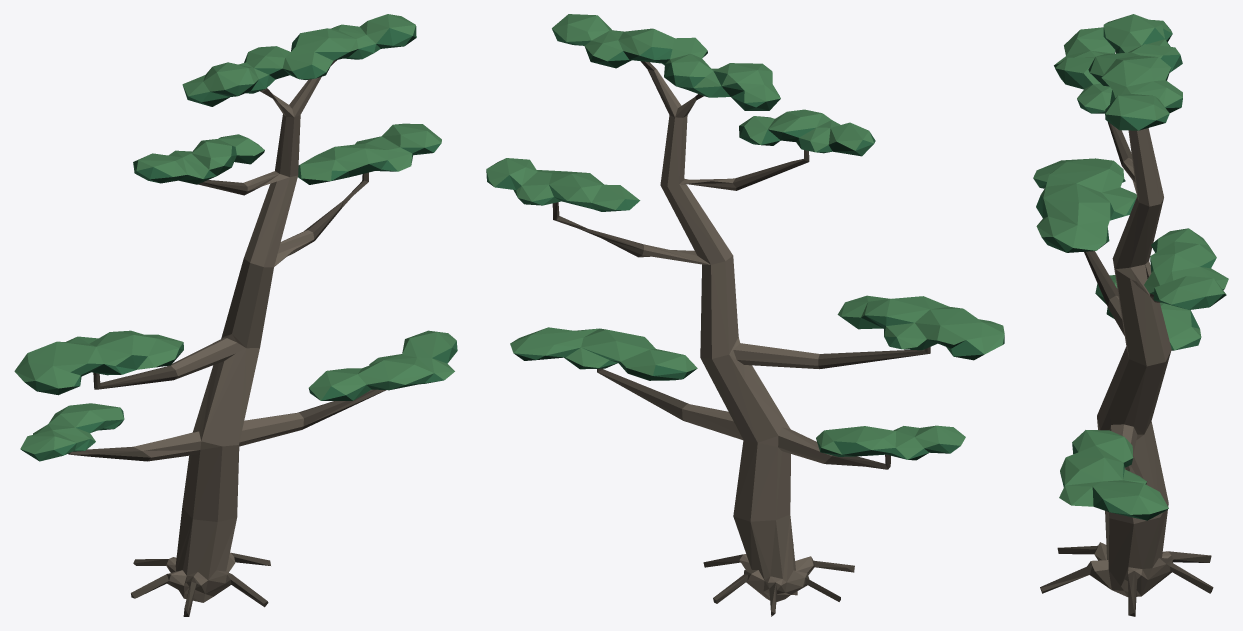
Rendered from ancient-pine-1238-lod2.glb.
3 views of the same model, side by side, from view 1: azimuth 30°, elevation 25°; view 2: azimuth 150°, elevation 25°; view 3: azimuth 270°, elevation 25° (orthographic). The views are drawn at different scales.
Parts seen in each view (by area): view 1: n8.006, n12.006, n11.006, n9.006, n10.006; view 2: n12.006, n8.006, n9.006, n11.006, n10.006; view 3: n12.006, n8.006, n11.006, n9.006, n10.006.
Part boxes in pixels (bbox=[...]): n8.006: bbox=[133, 76, 321, 602]; n12.006: bbox=[14, 14, 456, 454]; n11.006: bbox=[25, 26, 457, 461]; n9.006: bbox=[68, 60, 386, 616]; n10.006: bbox=[21, 36, 439, 460]; n12.006: bbox=[486, 14, 1004, 459]; n8.006: bbox=[639, 69, 832, 601]; n9.006: bbox=[552, 61, 930, 616]; n11.006: bbox=[486, 29, 1004, 459]; n10.006: bbox=[487, 41, 983, 460]; n12.006: bbox=[1033, 14, 1228, 514]; n8.006: bbox=[1090, 128, 1173, 596]; n11.006: bbox=[1033, 22, 1224, 514]; n9.006: bbox=[1040, 122, 1213, 616]; n10.006: bbox=[1042, 34, 1226, 520].
Bounding box in the file's own units: 4.9 × 5.42 × 1.59.
